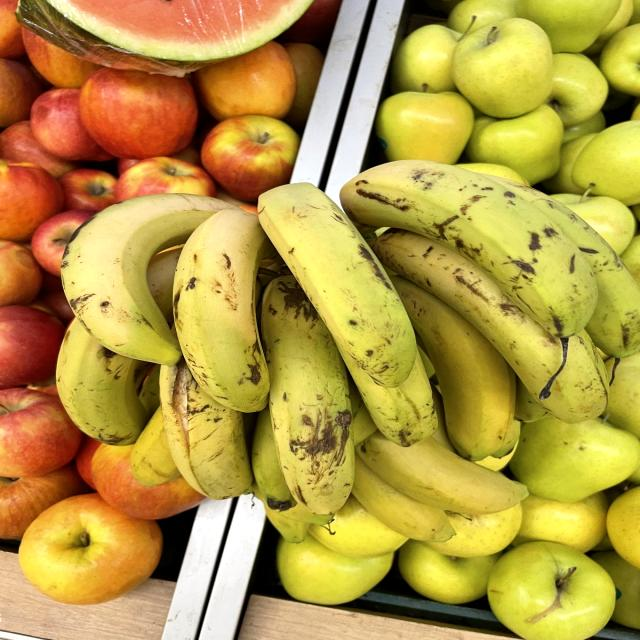banana: (250, 172, 427, 391)
